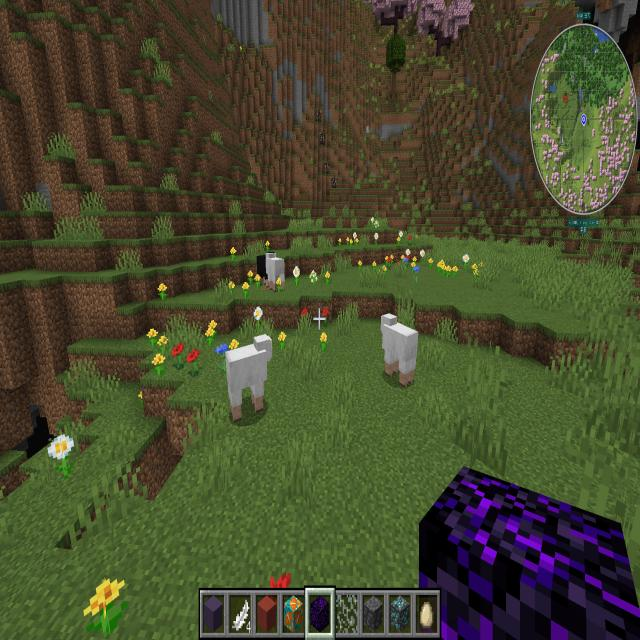cow: (317, 129, 328, 148), (314, 106, 324, 125), (321, 159, 332, 176), (330, 175, 339, 190)
